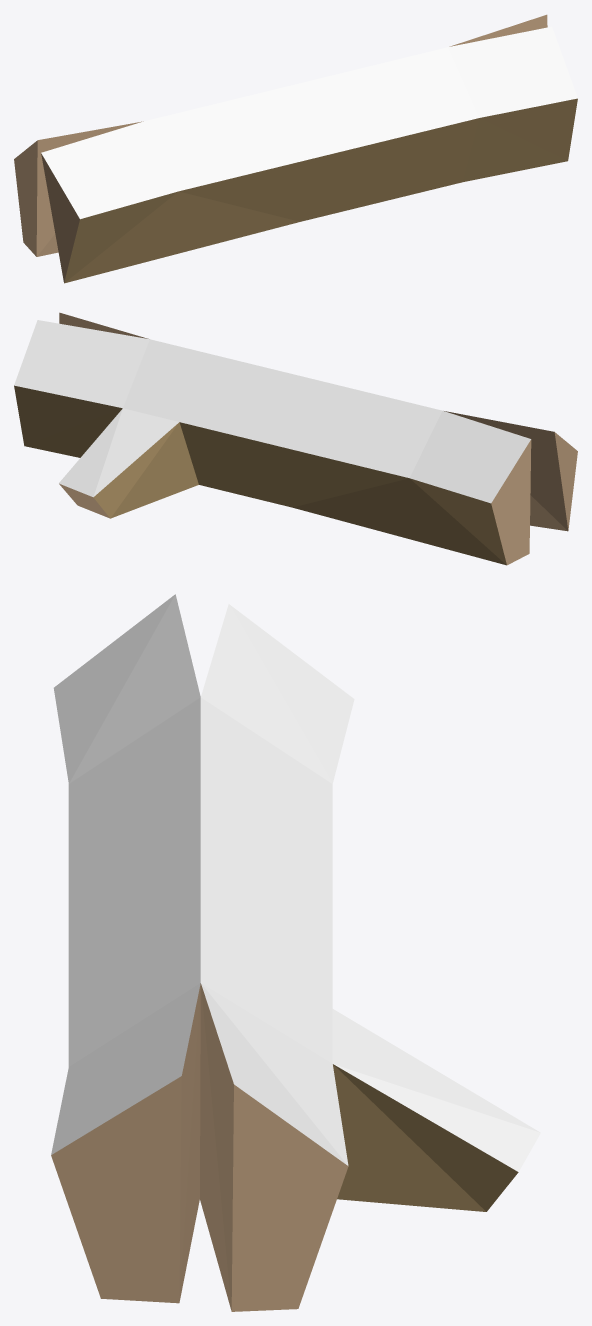
File: Acacia_Firewood_Snow_04.fbx
3 renders of one model, top to bottom at view 1: azimuth 30°, elevation 25°; view 2: azimuth 150°, elevation 25°; view 3: azimuth 270°, elevation 25°, orthographic. The views are drawn at different scales.
Visible parts, largest first — view 1: Acacia_Firewood_Snow_04; view 2: Acacia_Firewood_Snow_04; view 3: Acacia_Firewood_Snow_04.
Part boxes in pixels (<box>): Acacia_Firewood_Snow_04: <box>14,14,577,283</box>; Acacia_Firewood_Snow_04: <box>14,312,577,565</box>; Acacia_Firewood_Snow_04: <box>51,594,540,1311</box>.
Bounding box in the file's own units: 58.06 × 12.61 × 24.52.
